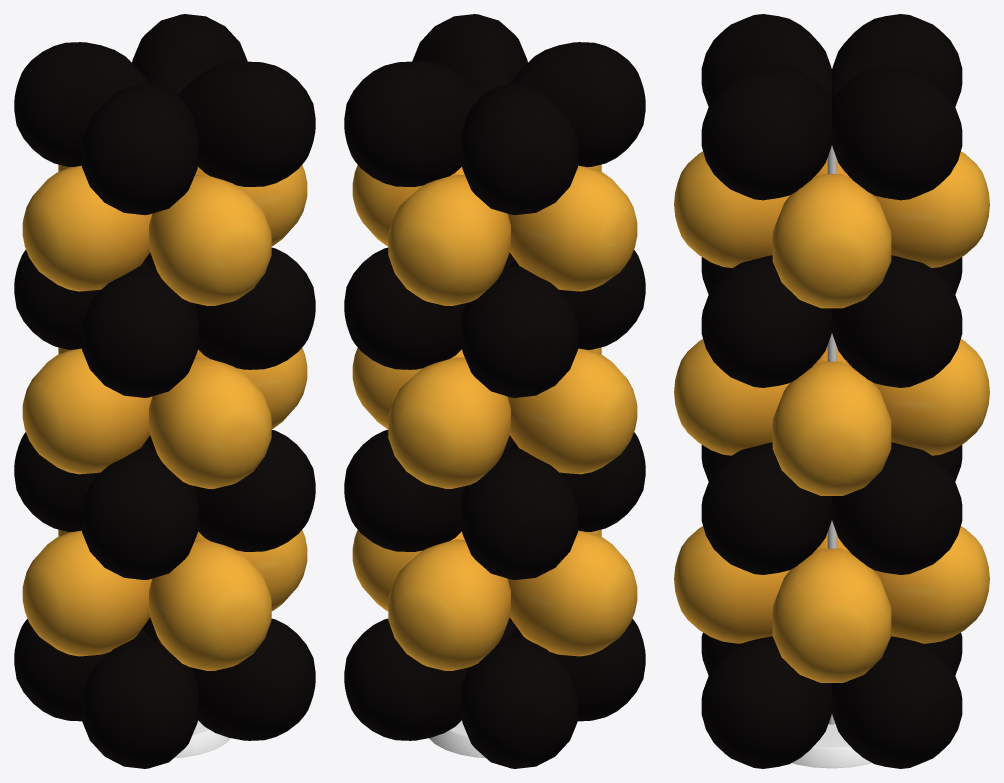
The model's file is PartyBalloons03_GR8_3.FBX.
3 renders of one model, left to right at view 1: azimuth 30°, elevation 25°; view 2: azimuth 150°, elevation 25°; view 3: azimuth 270°, elevation 25°, orthographic. The views are drawn at different scales.
Visible parts, largest first — view 1: PartyBalloons03_GR8_3; view 2: PartyBalloons03_GR8_3; view 3: PartyBalloons03_GR8_3.
Boxes of the visible parts, x1=… form: PartyBalloons03_GR8_3: x1=14, y1=14, x2=315, y2=768; PartyBalloons03_GR8_3: x1=344, y1=14, x2=645, y2=768; PartyBalloons03_GR8_3: x1=674, y1=14, x2=989, y2=768.
Size of what is drawn, in the model's own units: 0.7585 by 1.83 by 0.7585.
